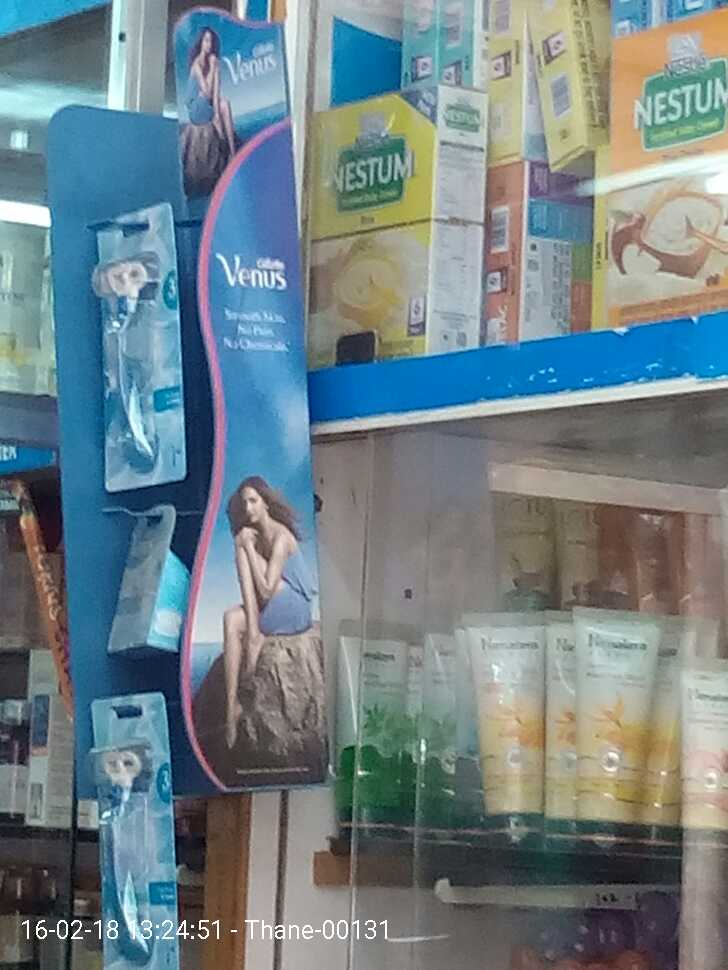beauty: (89, 222, 192, 489), (87, 697, 189, 966)
